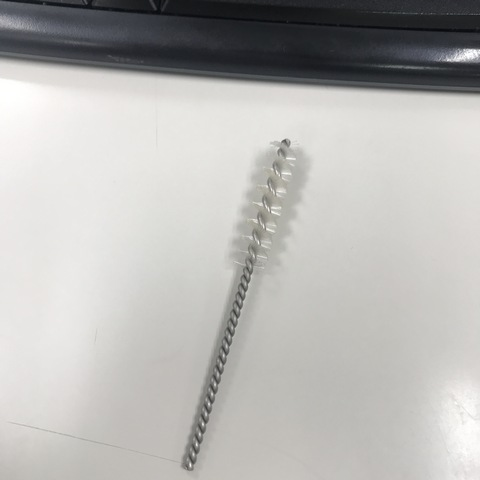Twist Brush-B: (183, 137, 303, 472)
